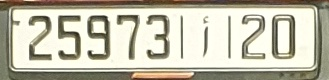0: (270, 13, 297, 60)
2: (240, 13, 267, 60), (28, 15, 53, 61)
3: (145, 14, 172, 60)
5: (56, 14, 82, 60)
7: (115, 13, 140, 61)
9: (86, 14, 111, 61)
a: (201, 15, 211, 57)
